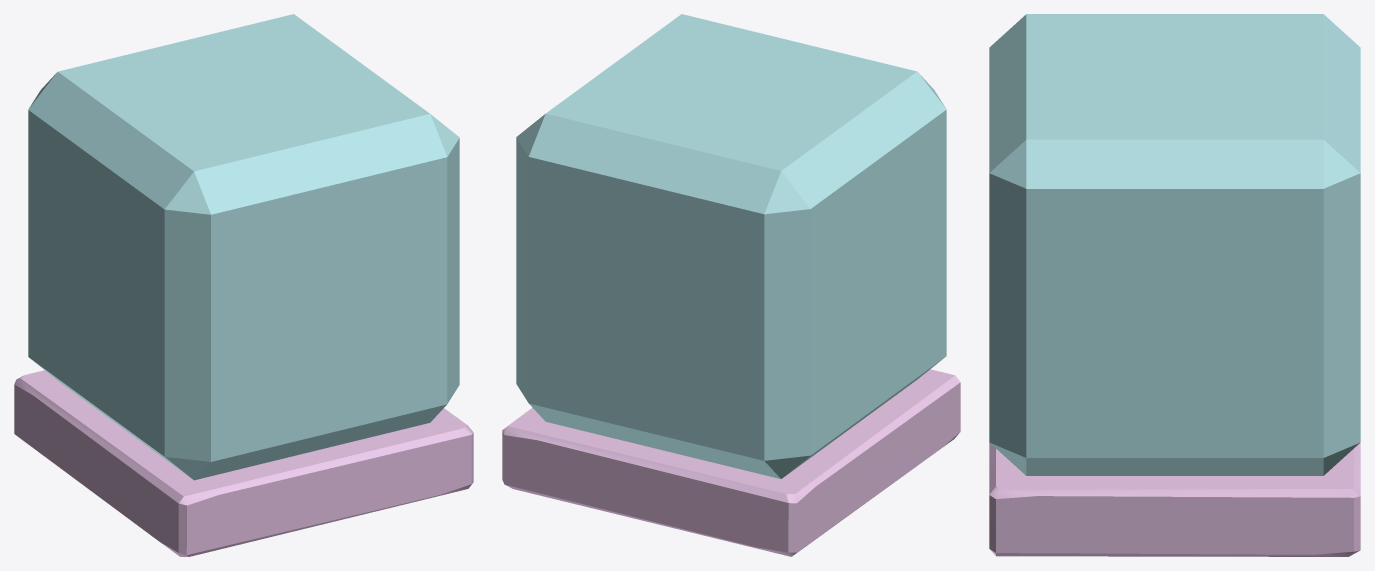
The model's file is Wall2.fbx.
The picture shows the model from 3 angles, left to right: view 1: azimuth 30°, elevation 25°; view 2: azimuth 150°, elevation 25°; view 3: azimuth 270°, elevation 25°; orthographic projection. The views are drawn at different scales.
Visible parts, largest first — view 1: pCube1, Floor:pCube1; view 2: pCube1, Floor:pCube1; view 3: pCube1, Floor:pCube1.
Boxes of the visible parts, box(x1,y1,x2,y2) form: pCube1: box(28, 14, 459, 480); Floor:pCube1: box(14, 370, 473, 556); pCube1: box(516, 14, 946, 478); Floor:pCube1: box(502, 369, 960, 556); pCube1: box(989, 14, 1360, 475); Floor:pCube1: box(989, 443, 1360, 556).
Size of the model in its own units: 1 by 1.2 by 1.
